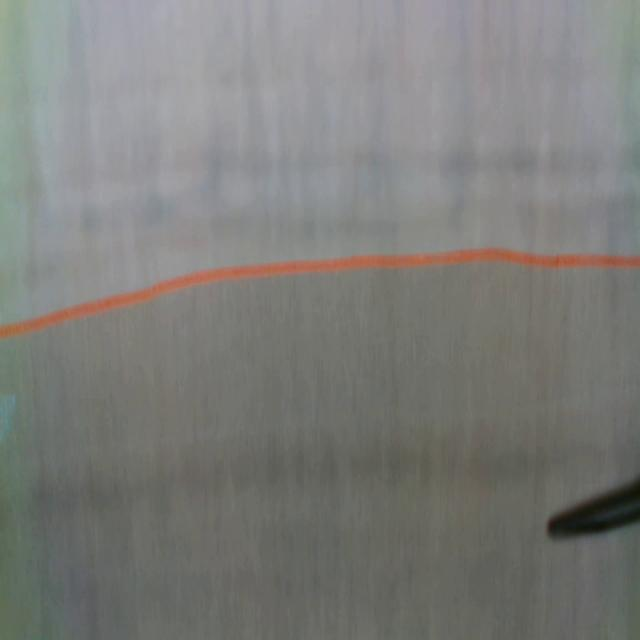color bleeding: (4, 149, 640, 245), (0, 430, 550, 518)
